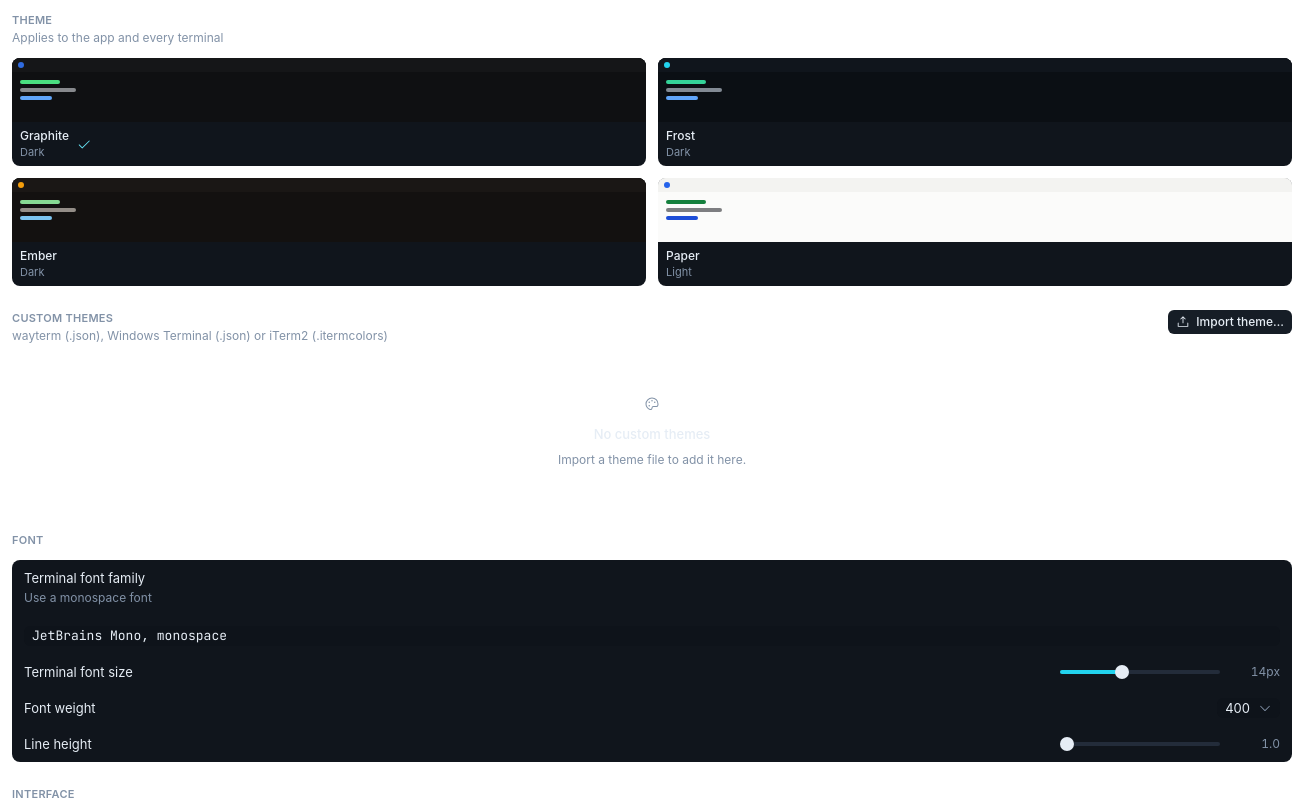
Test: AppearancePanel › shows why an import failed
The width and height of the screenshot is (1304, 812).
Step 1. Click the button "Import theme…" → coordinates (1230, 322), box x1=1168 y1=310 x2=1292 y2=334
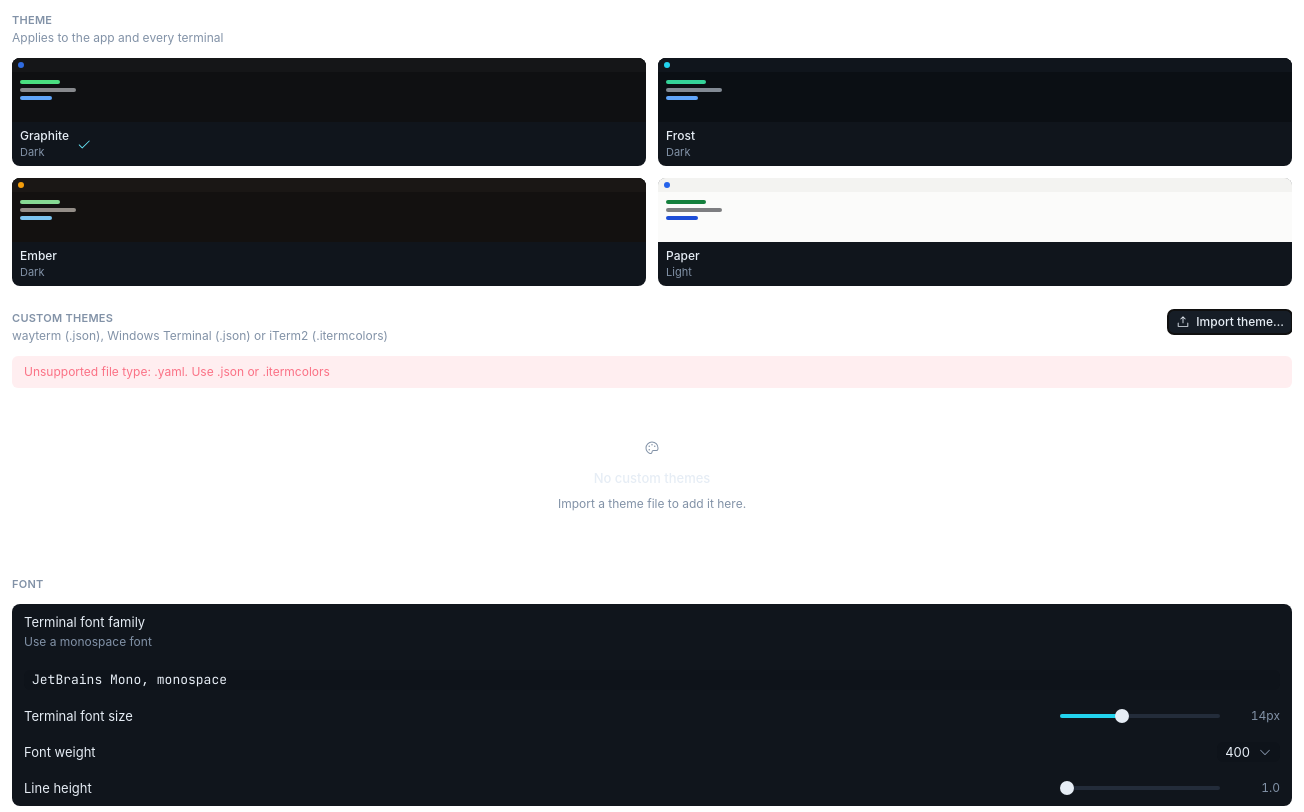
Check: the message shows "Unsupported file type: .yaml", box x1=24 y1=364 x2=330 y2=379
